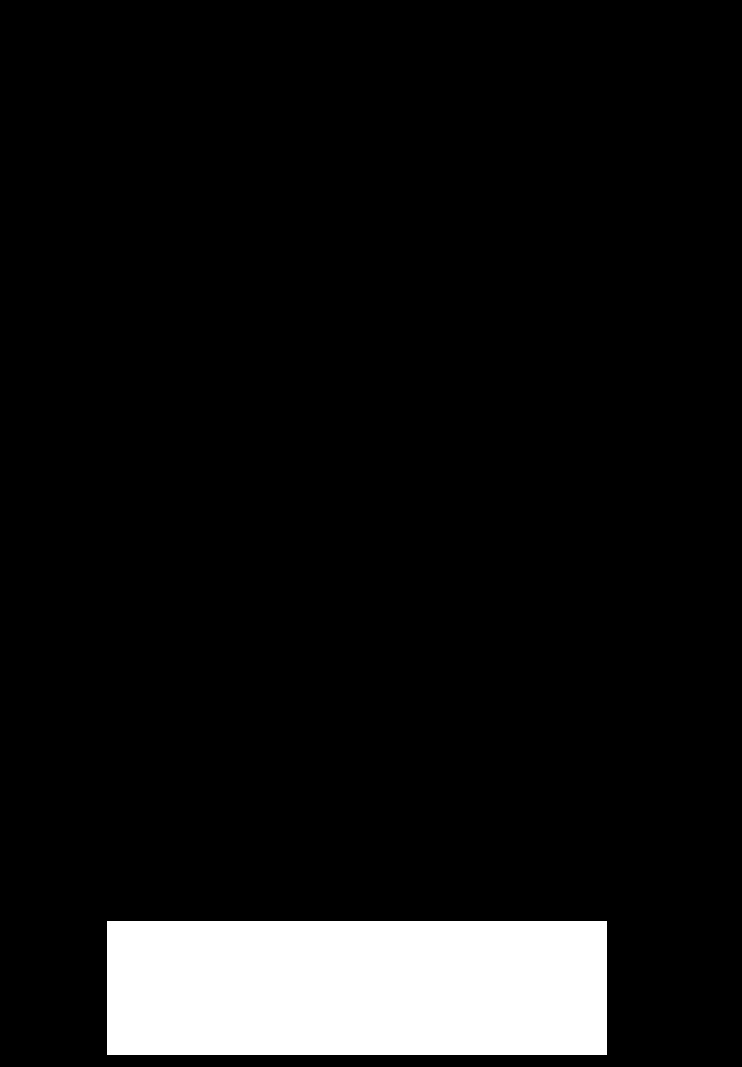table: (107, 921, 606, 1054)
